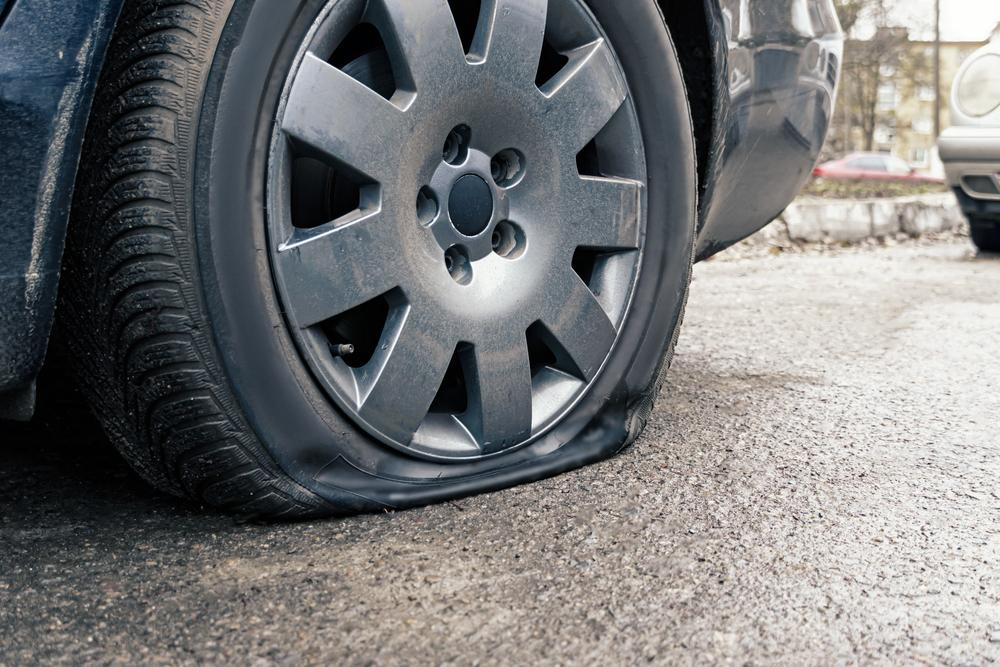tire flat: (66, 0, 698, 521)
